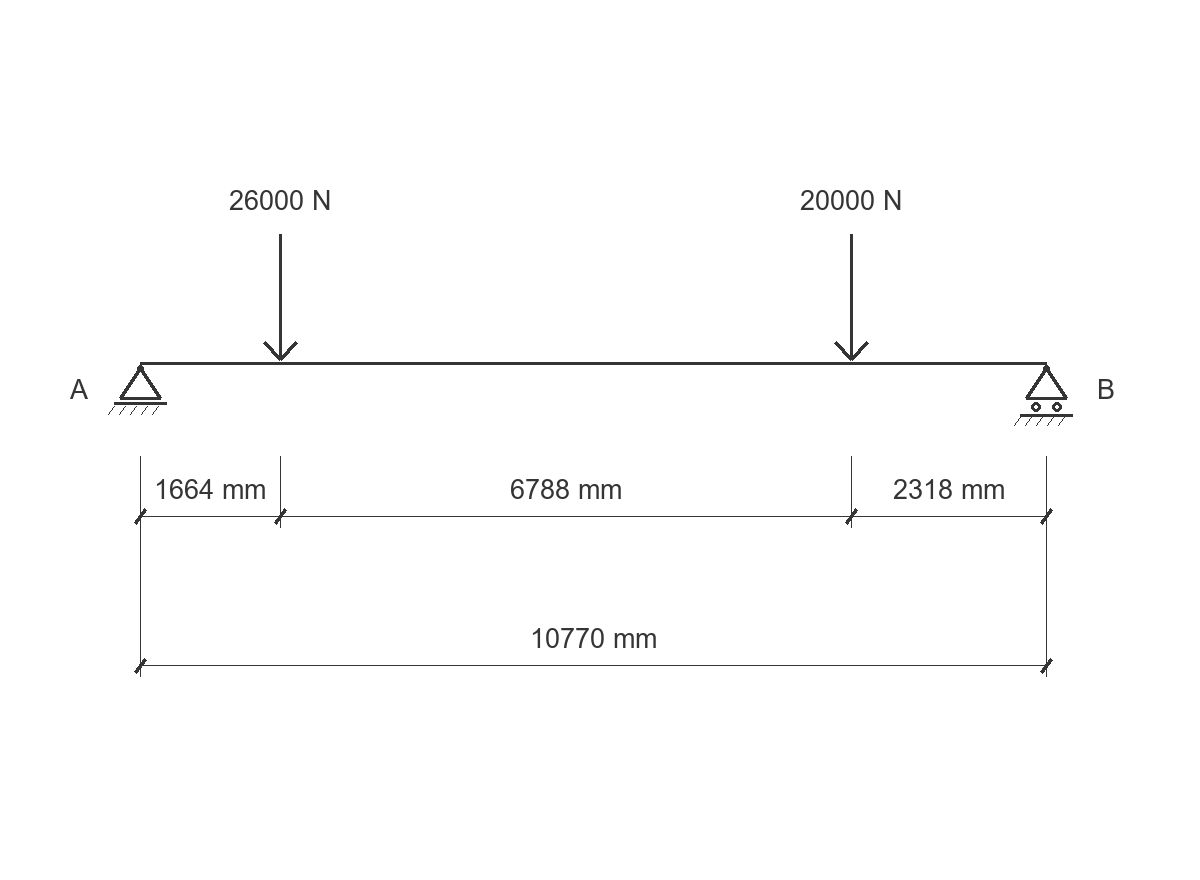pin_support: (108, 365, 167, 415)
point_load: (263, 234, 298, 361), (834, 234, 869, 361)
roller_support: (1014, 365, 1073, 426)
